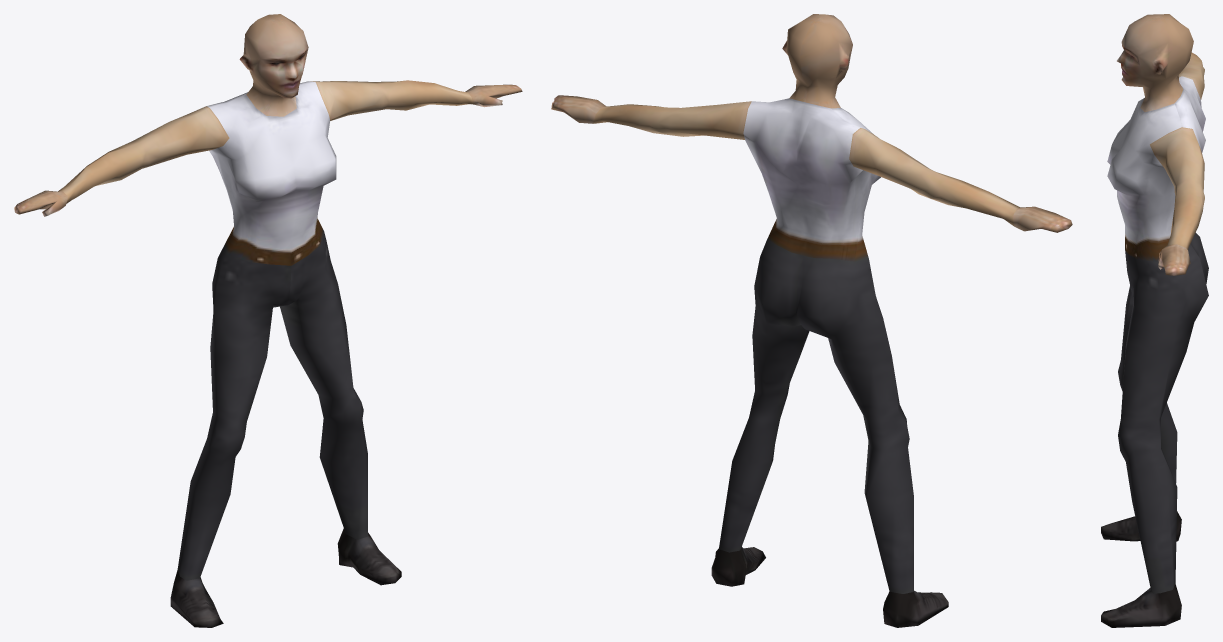
The model's file is female_gunsmith_body.obj.
The picture shows the model from 3 angles, left to right: view 1: azimuth 30°, elevation 25°; view 2: azimuth 150°, elevation 25°; view 3: azimuth 270°, elevation 25°; orthographic projection. The views are drawn at different scales.
Parts seen in each view (by area): view 1: Body_11 - De; view 2: Body_11 - De; view 3: Body_11 - De.
Boxes of the visible parts, <box> form: Body_11 - De: <box>14,14,522,627</box>; Body_11 - De: <box>551,14,1072,627</box>; Body_11 - De: <box>1101,14,1208,627</box>.
Size of the model in its own units: 8.88 by 9.53 by 1.66.
